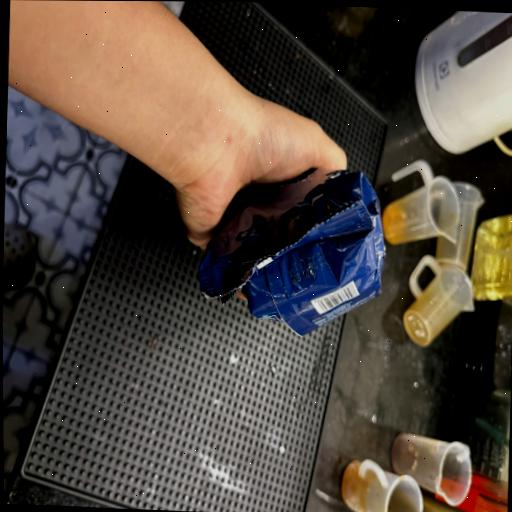cafe_hat: (197, 170, 383, 336)
